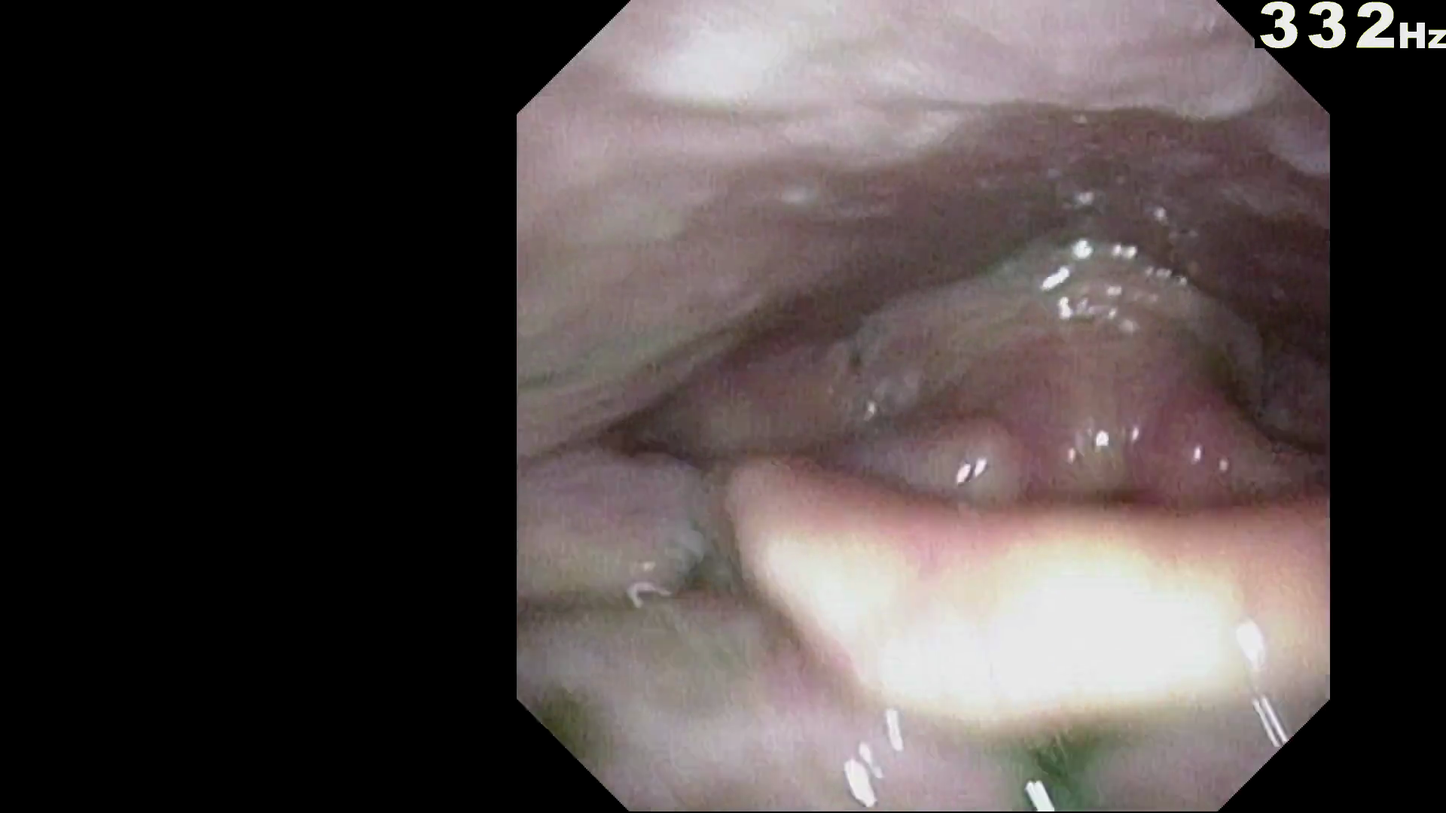epiglottis: (730, 436, 1312, 710), (702, 366, 1320, 592)
trachea: (1044, 409, 1166, 528)
